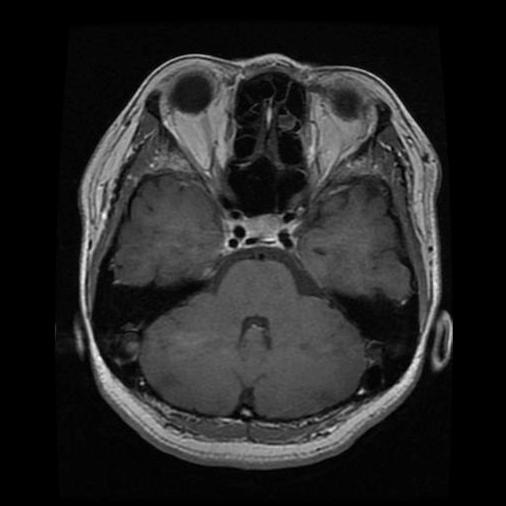Tumour-Pituitary: (207, 210, 315, 258)
